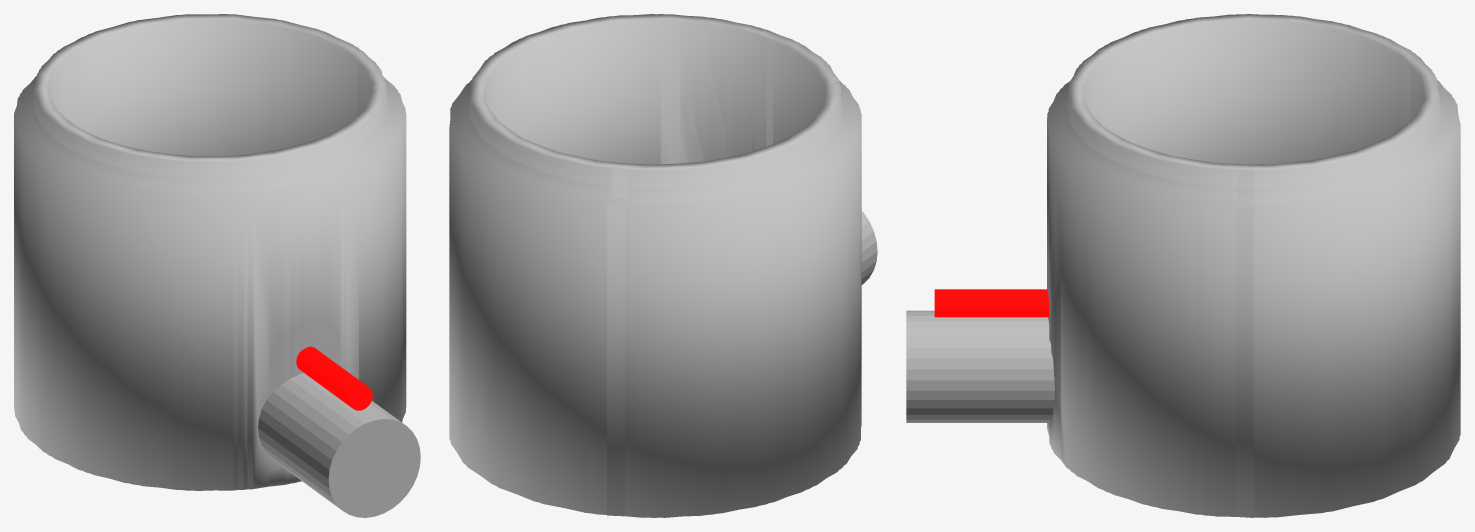
File: LOT129_77f944d3.glb
The picture shows the model from 3 angles, left to right: view 1: azimuth 30°, elevation 25°; view 2: azimuth 150°, elevation 25°; view 3: azimuth 270°, elevation 25°; orthographic projection. The views are drawn at different scales.
Visible parts, largest first — view 1: 1200x1.219mr_Obj, Cylinder.003; view 2: 1200x1.219mr_Obj; view 3: 1200x1.219mr_Obj, Cylinder.003.
Boxes of the visible parts, box(x1,y1,x2,y2) form: 1200x1.219mr_Obj: box(14, 14, 420, 517); Cylinder.003: box(296, 346, 372, 410); 1200x1.219mr_Obj: box(449, 14, 877, 517); 1200x1.219mr_Obj: box(906, 14, 1460, 517); Cylinder.003: box(934, 289, 1048, 317).
Bounding box in the file's own units: 1.47 × 1.33 × 1.97.
